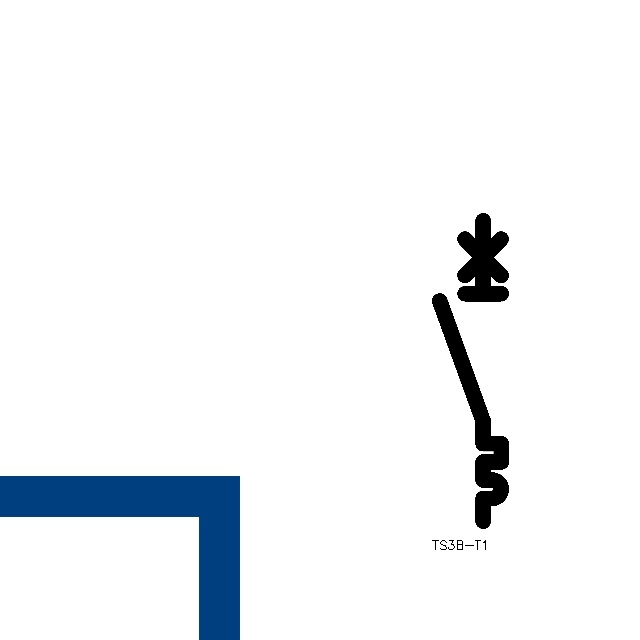interruptor_termomagnetico: (432, 213, 509, 529)
